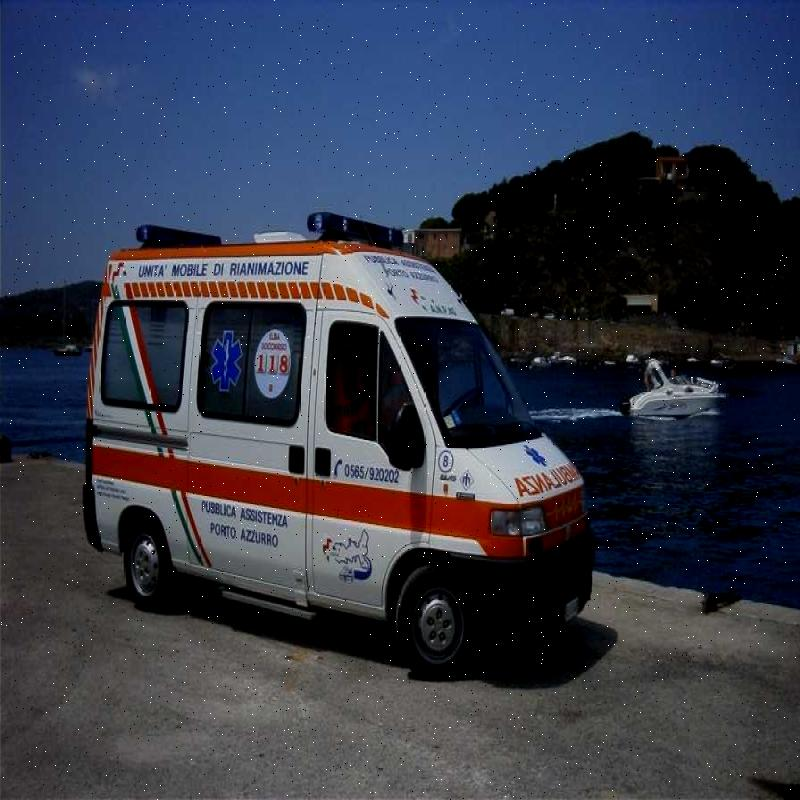AmbulanceSiren: (290, 187, 428, 257)
